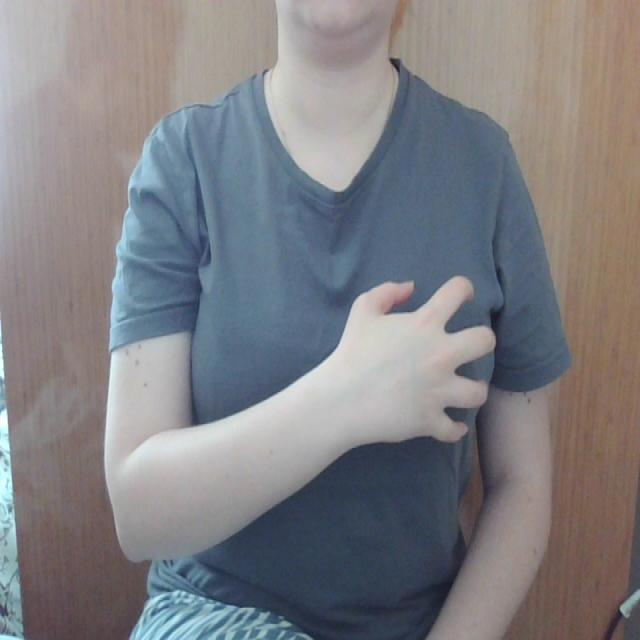Anne: (168, 243, 512, 451)
